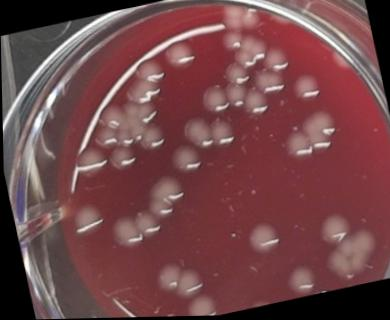vharveyi: (313, 207, 379, 286), (277, 106, 340, 161), (120, 56, 170, 106), (109, 207, 164, 249), (152, 256, 202, 302), (141, 173, 186, 221), (229, 30, 269, 71), (247, 62, 286, 101), (242, 218, 281, 256), (67, 200, 105, 238), (70, 145, 108, 183), (281, 261, 318, 298), (178, 111, 212, 151), (166, 140, 202, 177), (286, 69, 322, 105), (161, 37, 195, 72), (257, 41, 292, 75), (103, 138, 137, 172), (238, 85, 270, 120), (220, 59, 254, 91), (132, 121, 166, 153), (197, 82, 229, 115), (206, 114, 236, 149), (181, 291, 218, 317), (219, 80, 247, 111), (240, 295, 274, 311)
